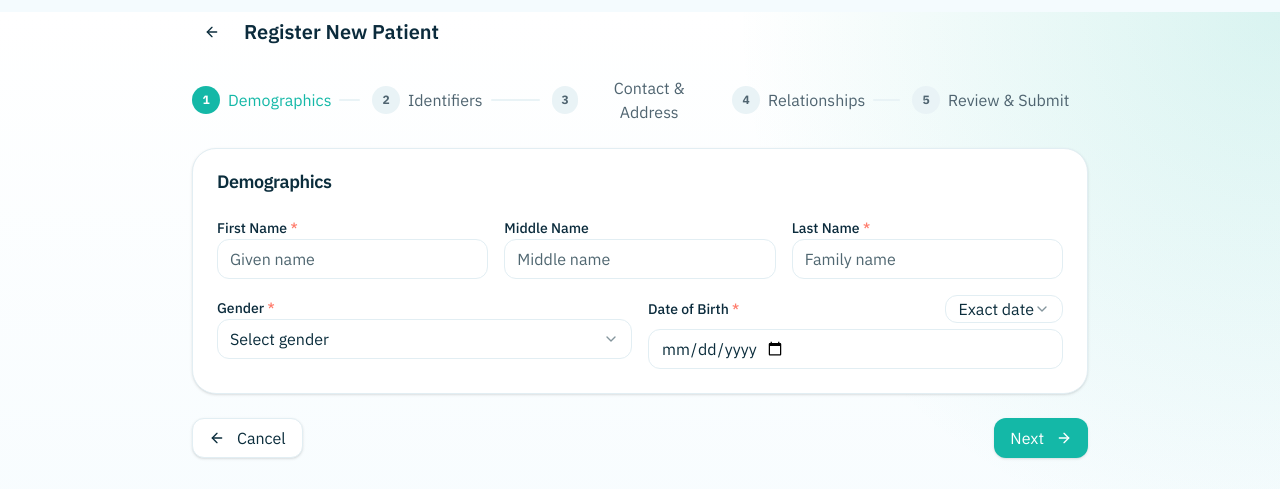
Test case: PatientRegistrationForm › blocks the demographics step when gender is not selected
Type "Ada" into the field with placeholder "Given name".
click(353, 259); type("Ada")  # box left=217, top=239, right=488, bottom=279
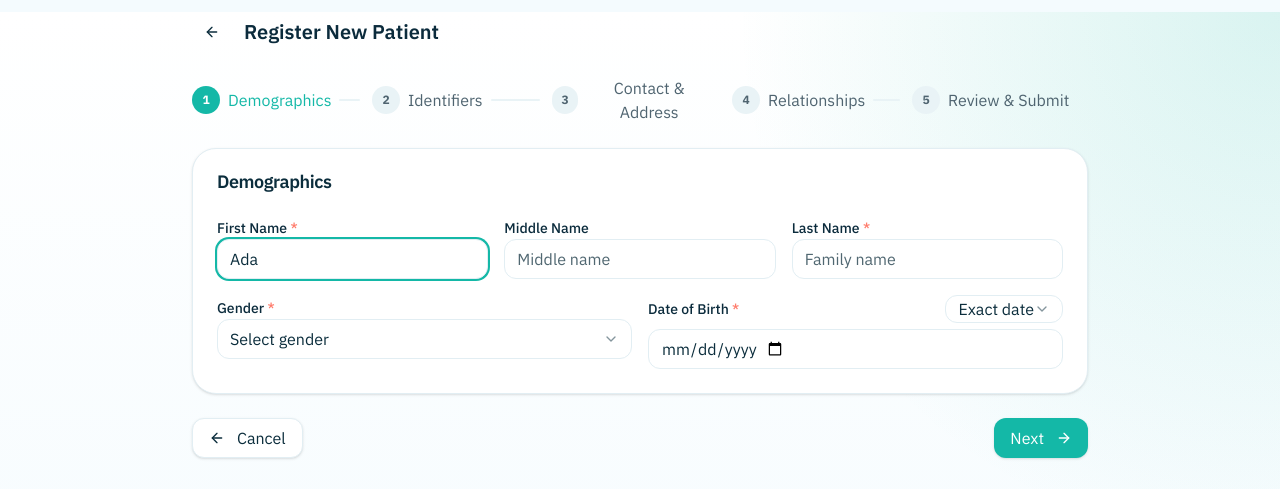
Type "Lovelace" into the field with placeholder "Family name".
click(927, 259); type("Lovelace")  # box left=792, top=239, right=1063, bottom=279
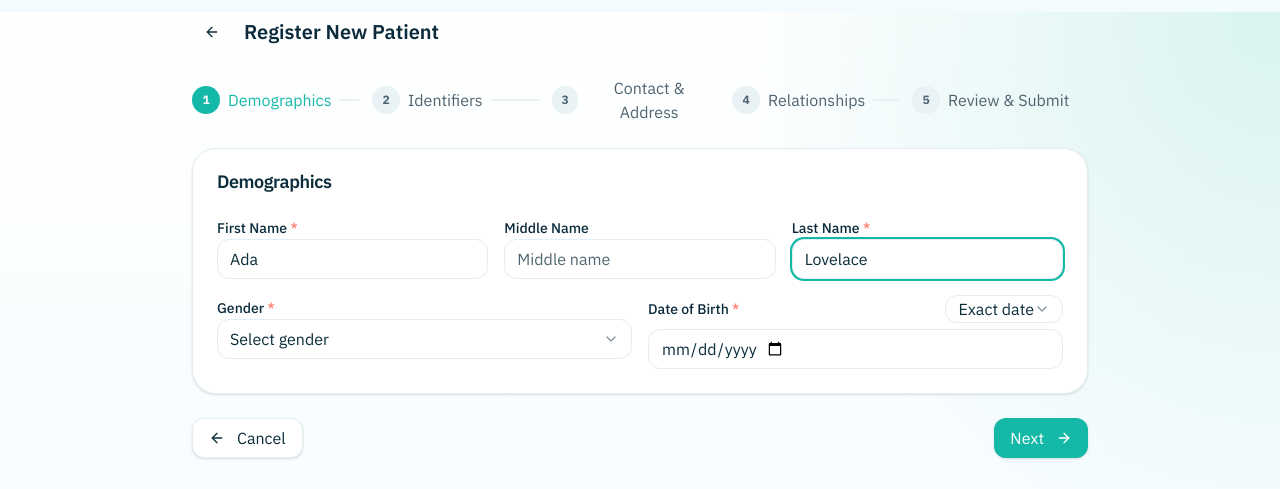
Click the button "Next".
click(1041, 438)  # box left=994, top=418, right=1088, bottom=458
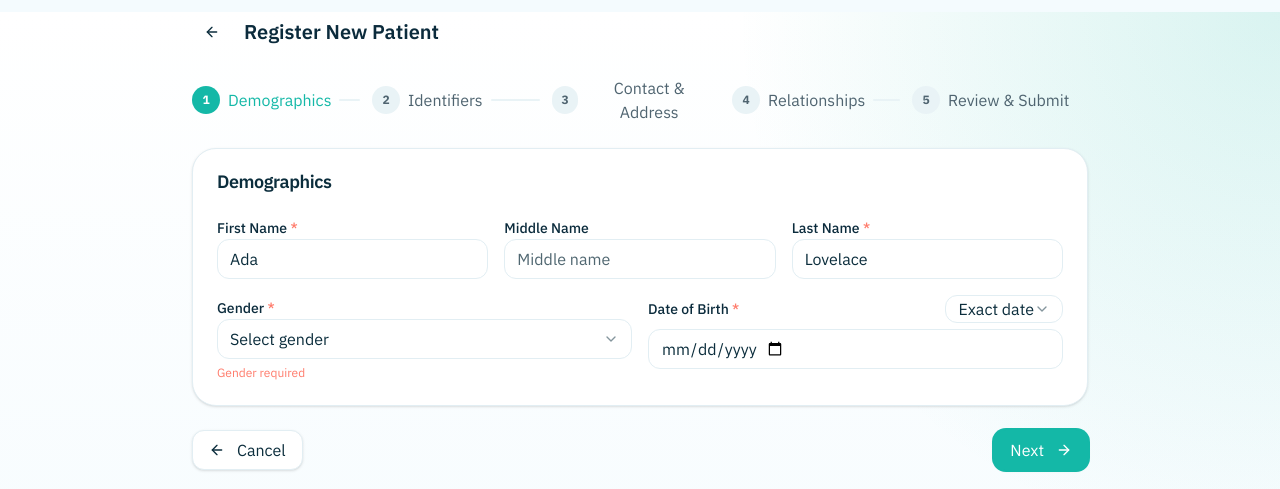
Expected: the text "Gender required" is shown, left=217, top=365, right=305, bottom=380
